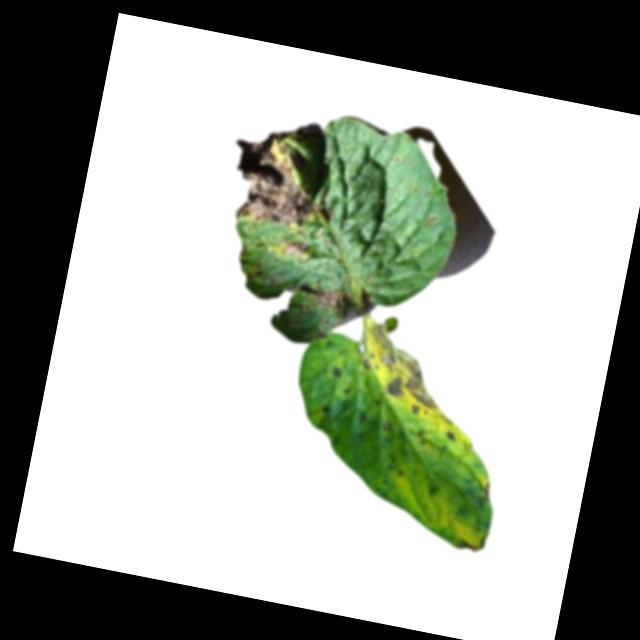Early_blight: (219, 116, 346, 237), (348, 314, 456, 419), (313, 282, 358, 320), (456, 530, 489, 556), (279, 237, 312, 263), (320, 405, 332, 421)
